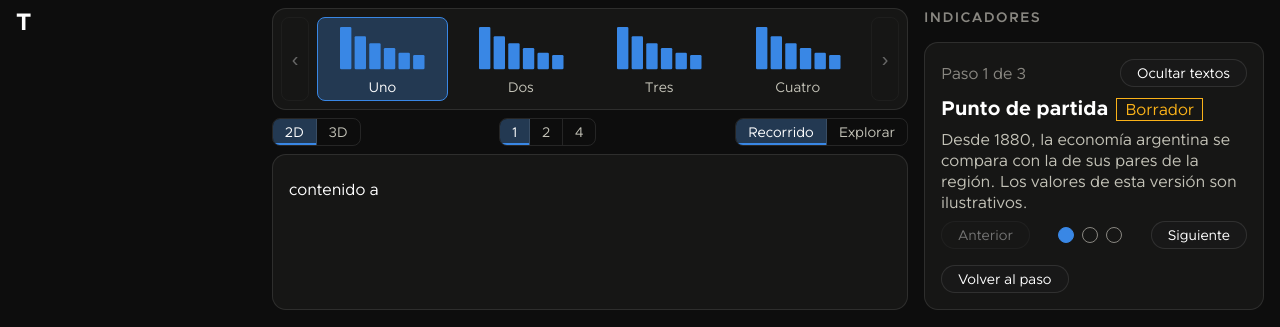
it: Dashboard: Recorrido and Explorar › Explorar hides the story and Recorrido brings it back
Expected: the element named "Historia" is shown, [924,42,1264,310]
Click the button "Explorar" at (867, 132), box [827,119,907,145]
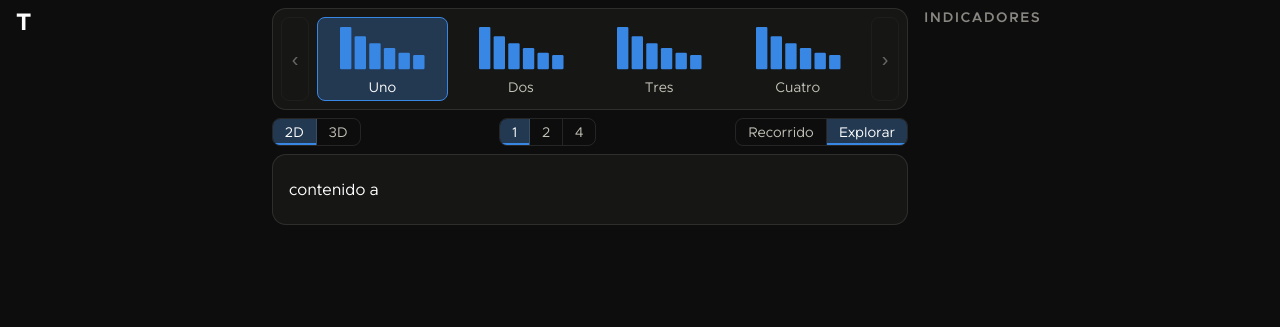
Expected: the element "Historia" is gone
Click the button "Recorrido" at (781, 132), box [736,119,827,145]
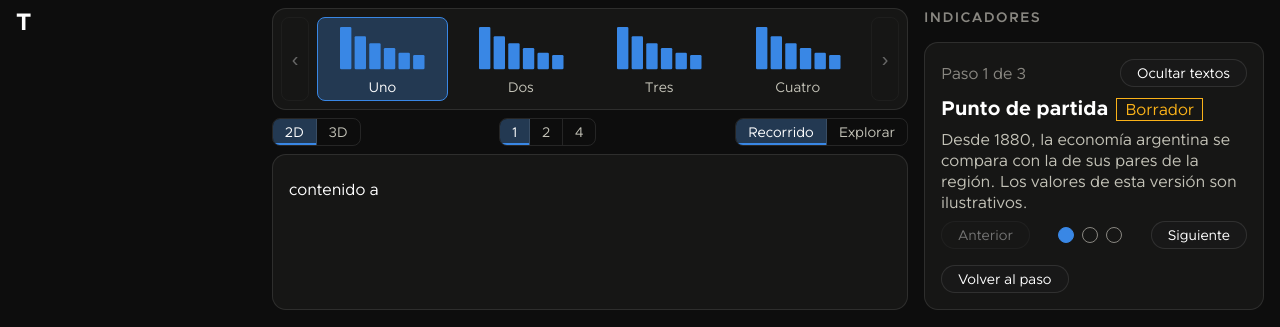
Expected: the element named "Historia" is shown, [924,42,1264,310]
